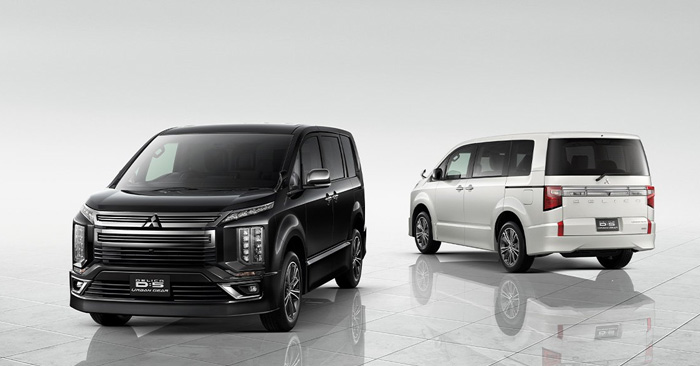van: (70, 122, 371, 336), (408, 134, 659, 275)
